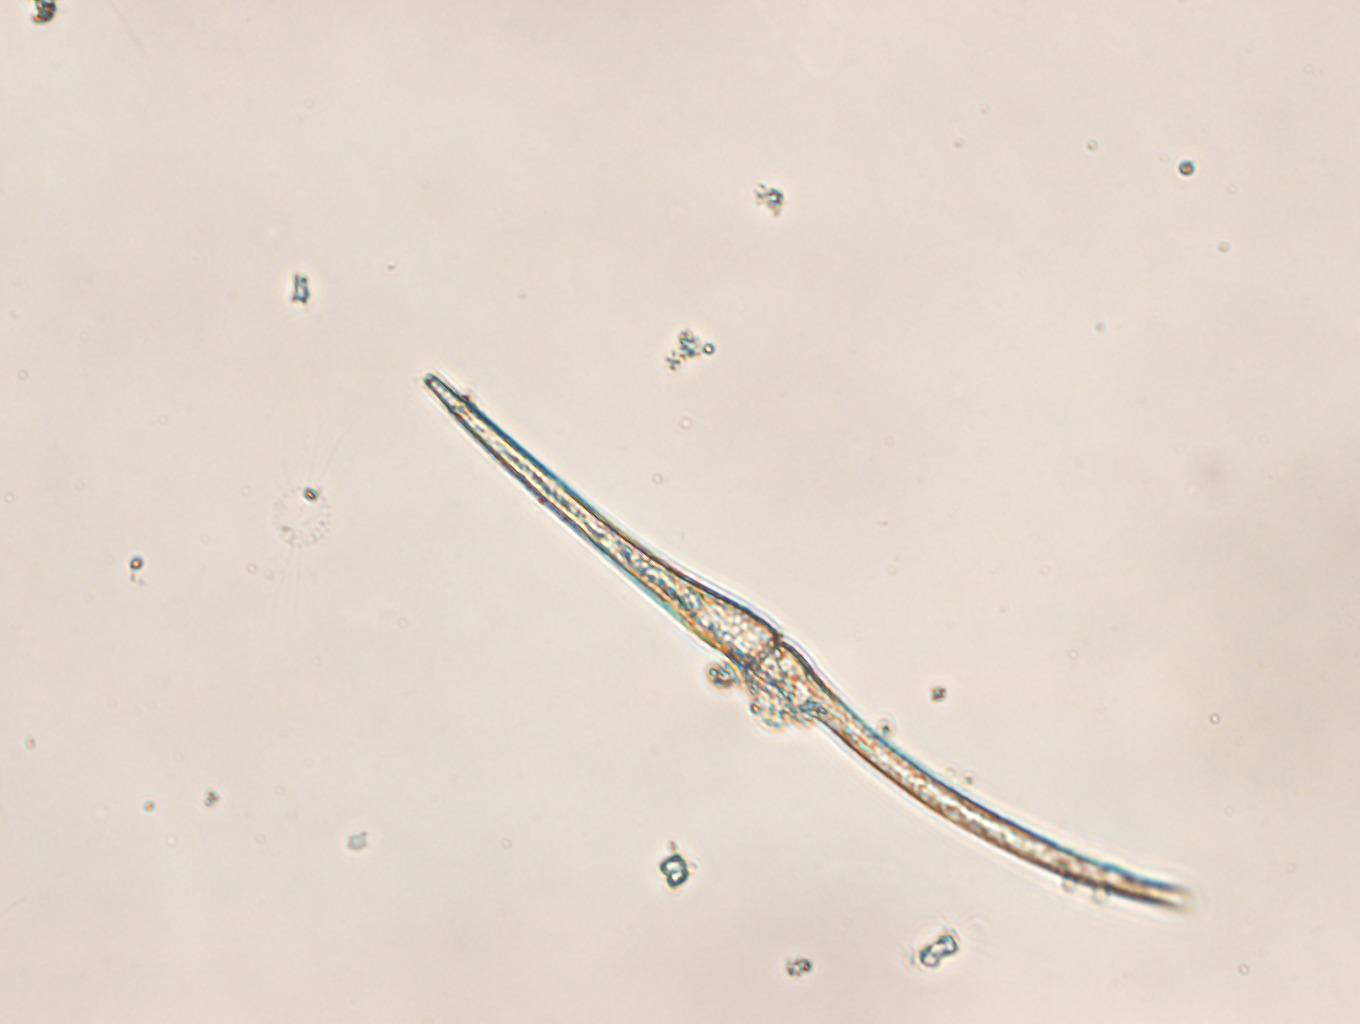ceratium fusus: (419, 370, 1193, 911)
